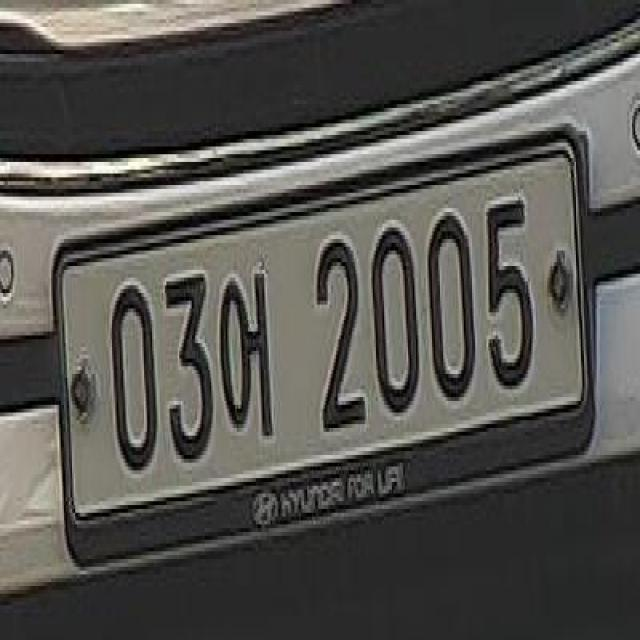illegal_plate: (54, 134, 598, 556)
